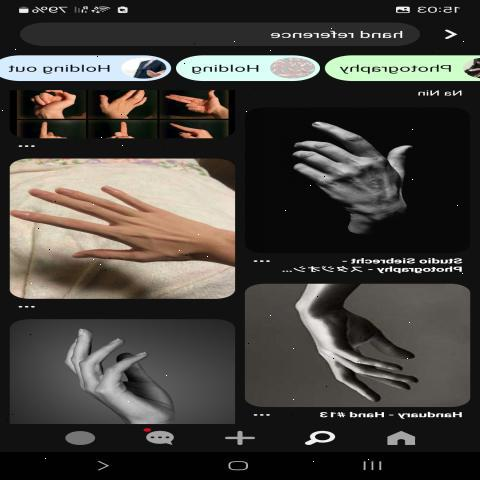Hands: (9, 151, 209, 293), (266, 109, 444, 224), (278, 280, 434, 405), (40, 316, 186, 423)
